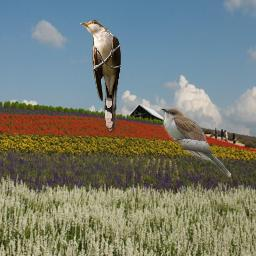Cuckoo: (160, 108, 231, 177), (80, 20, 121, 132)
